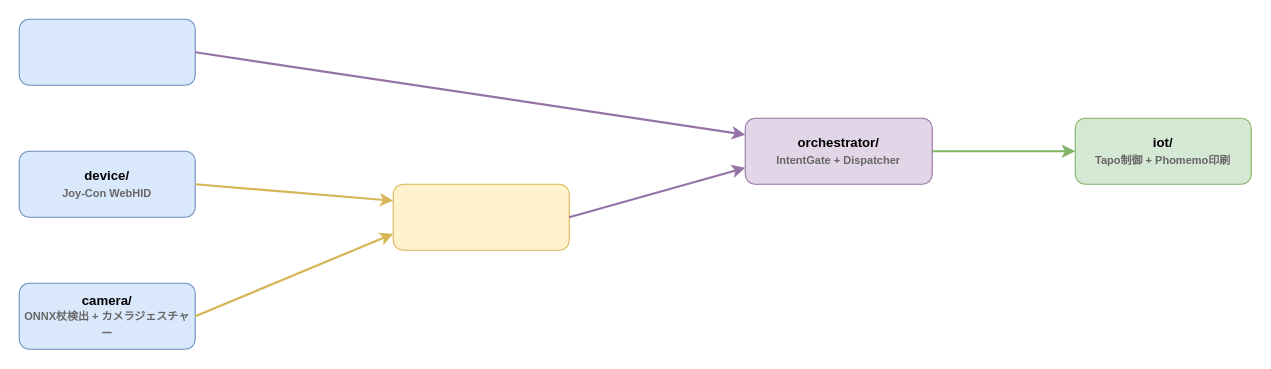
Some shapes in this 1271 by 369 pixel diagram are drawn without their labels. Each missing label, with the centre of its shape:
gesture/ ジェスチャー認識（共通）: (480,216)
voice/ 音声認識 + 呪文照合: (106,51)
